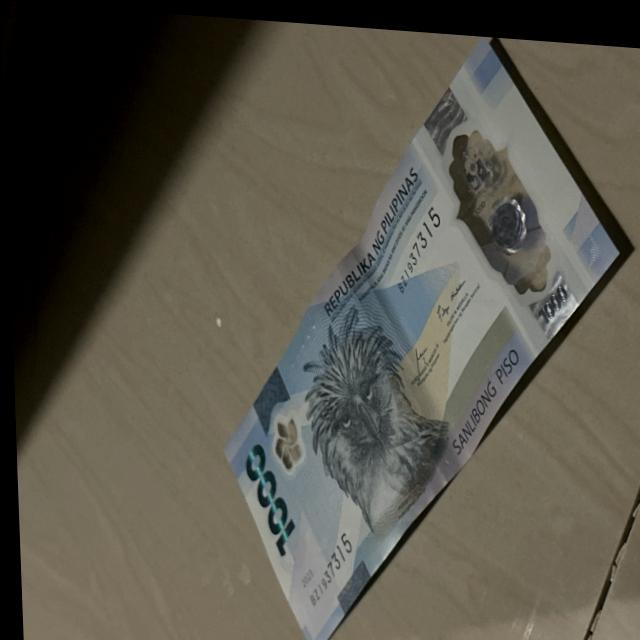clear_window: (441, 86, 559, 310)
eagle: (283, 319, 441, 515)
sampaguita: (269, 403, 307, 471)
serial_number: (383, 192, 443, 293), (305, 519, 352, 608)
